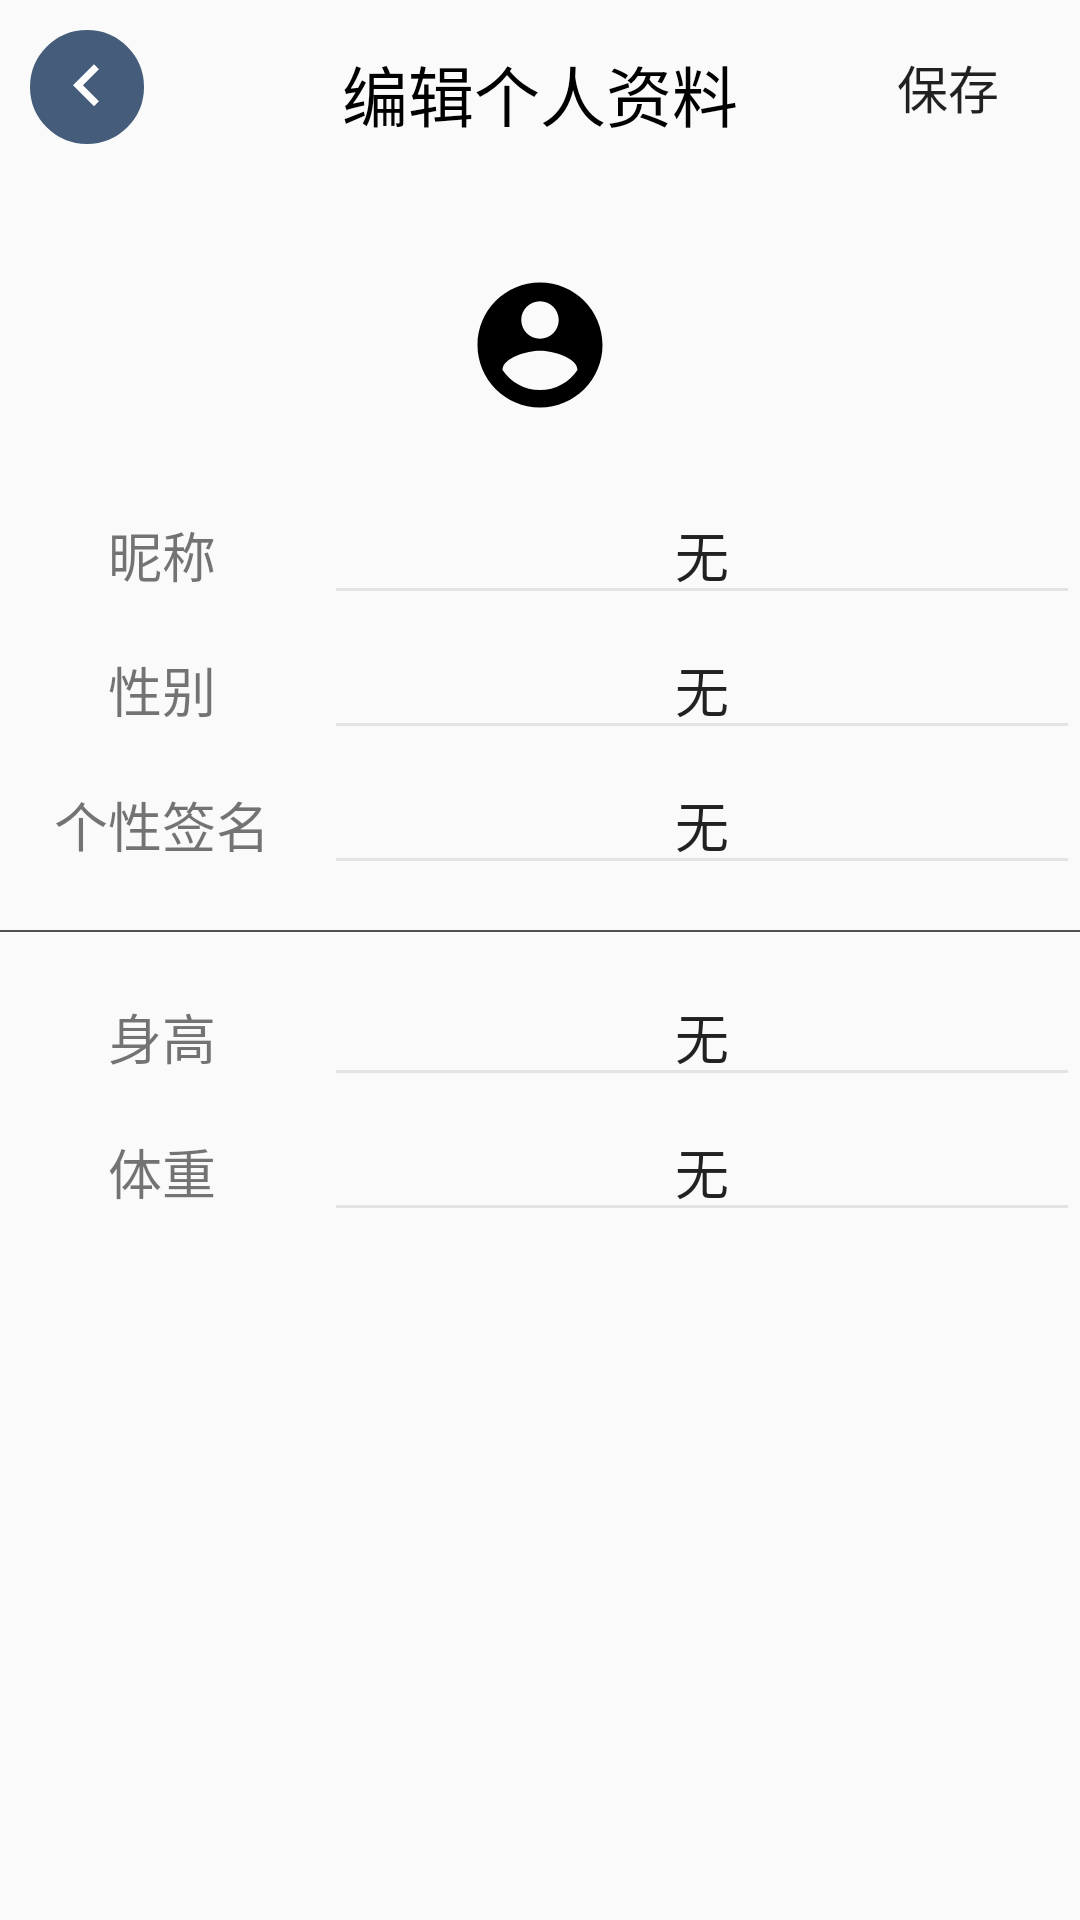

Screen size 1080px×1920px. Icon name, then its box in pixels as (x1, y1, x2, y2):
account circle: (477, 282, 603, 408)
keyboard arrow left: (30, 30, 144, 144)
